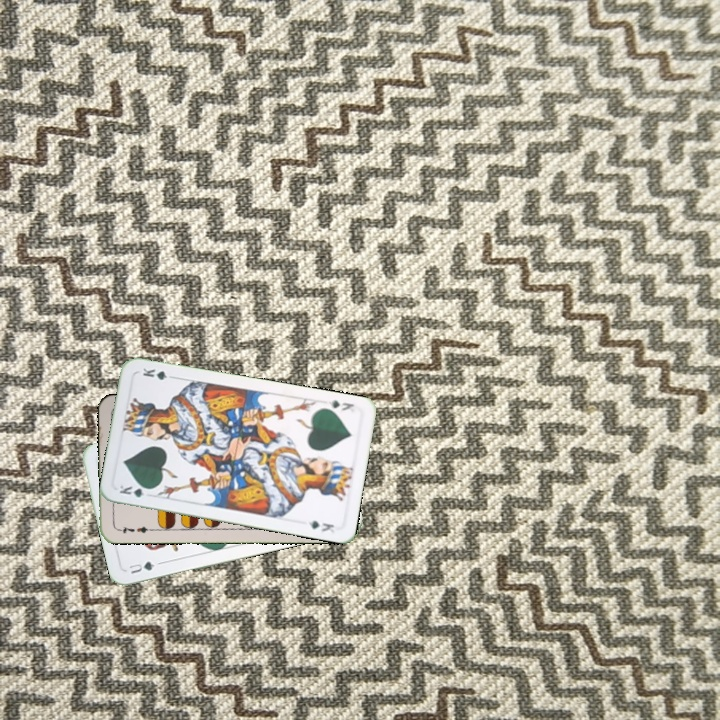E7: (113, 522, 154, 536)
GK: (115, 480, 155, 500), (325, 396, 357, 413)
GU: (125, 557, 157, 576)
